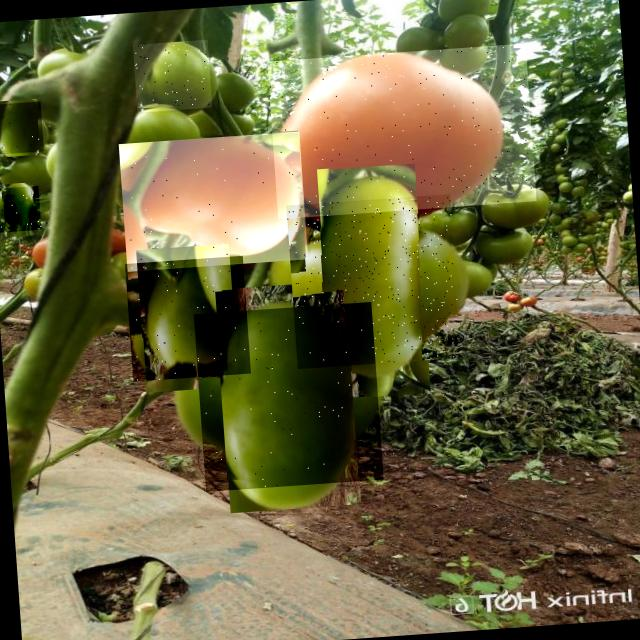Ripe Tomato: (267, 43, 536, 219), (119, 131, 308, 271)
Unripe Tomato: (193, 302, 383, 492), (286, 194, 461, 368), (124, 255, 250, 381), (132, 39, 212, 112), (0, 101, 43, 154), (0, 185, 41, 232)
